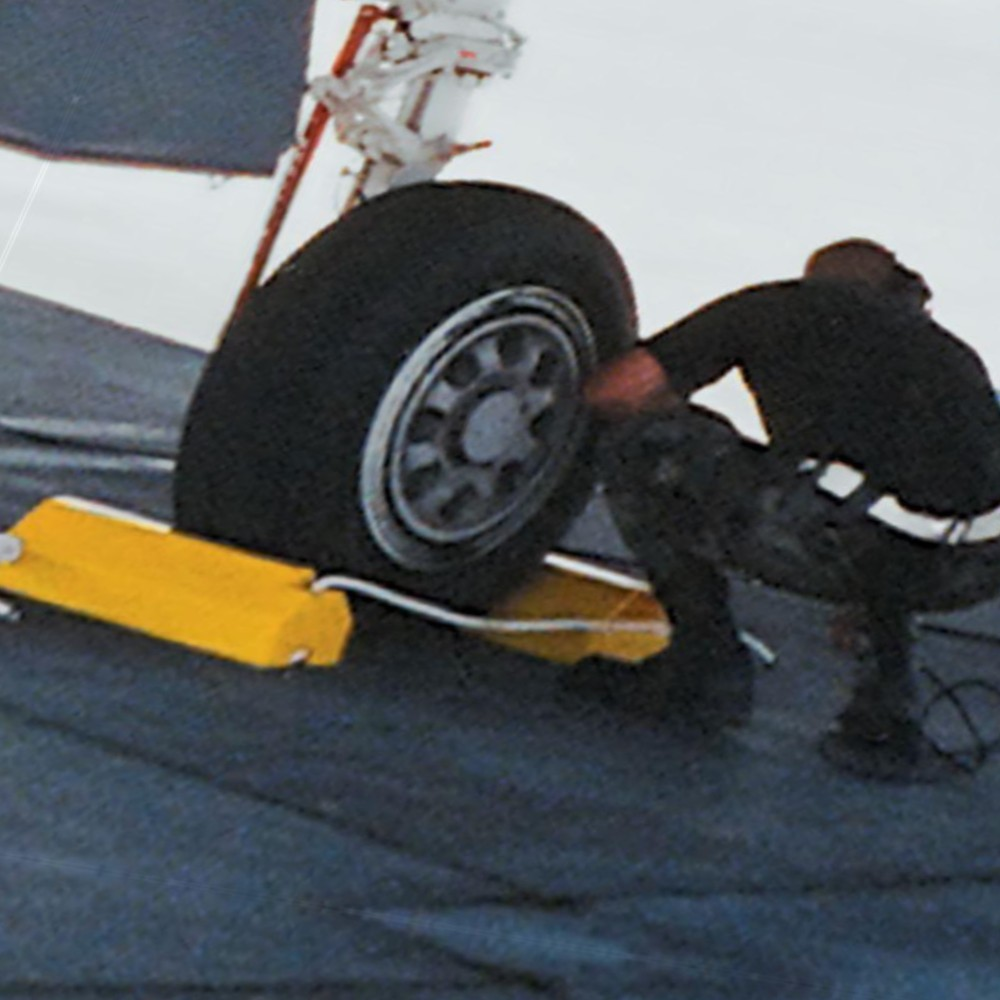chock: (0, 481, 395, 697), (337, 523, 709, 690)
wheel: (118, 147, 697, 640)
